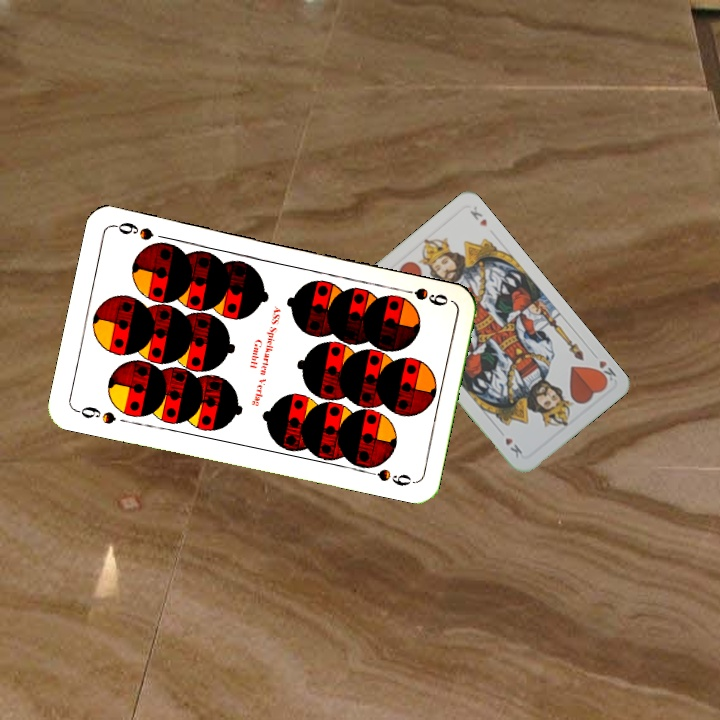HK: (588, 348, 619, 387)
S9: (394, 283, 451, 309), (71, 402, 118, 427)
